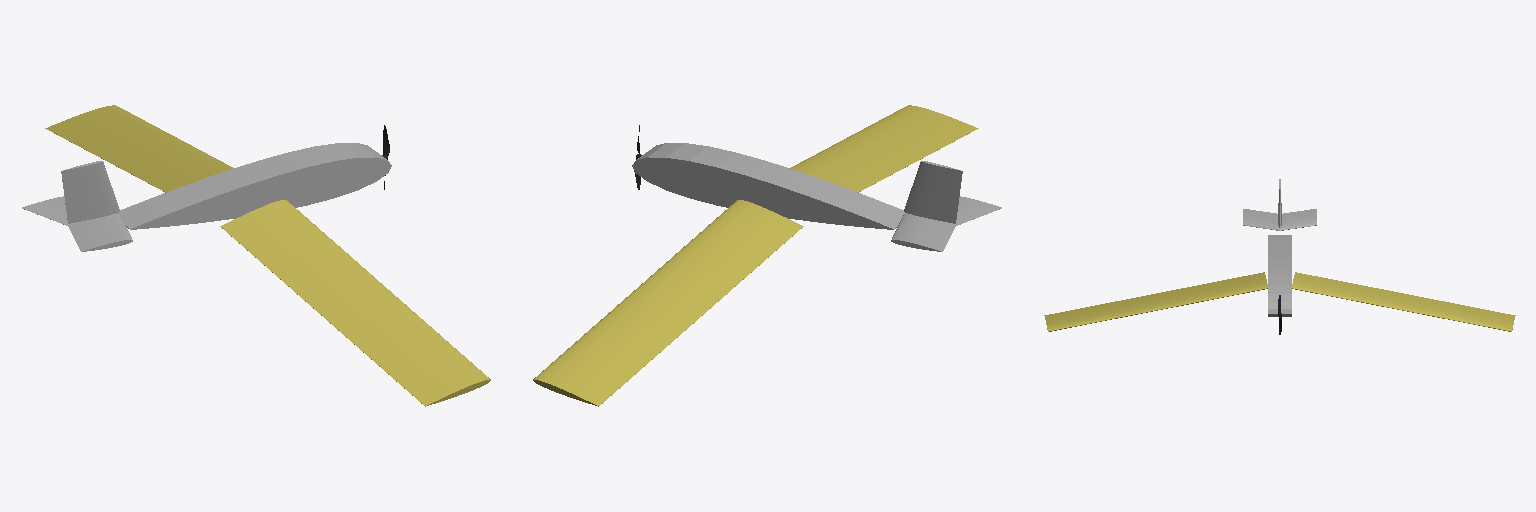
The robot description file, URDF, robot "drone_ea":
<robot name="drone_ea">
 <material name="grey">
  <color rgba="0.7 0.7 0.7 1" />
 </material>
 <material name="red">
  <color rgba="0.796078431372549 0.7490196078431373 0.37254901960784315 1" />
 </material>
 <material name="black">
  <color rgba="0.2 0.2 0.2 1" />
 </material>
 <link name="root_link">
  <inertial>
   <origin rpy="0 0 0" xyz="0 0 0" />
   <mass value="0" />
   <inertia ixx="0" ixy="0" ixz="0" iyy="0" iyz="0" izz="0" />
  </inertial>
 </link>
 <joint name="fixed_joint_base_fuselage" type="fixed">
  <parent link="root_link" />
  <child link="fuselage" />
  <origin rpy="3.141592653589793 0 0" xyz="0 0 0" />
 </joint>
 <link name="fuselage">
  <inertial>
   <origin rpy="0 0 0" xyz="-0.344 0 0" />
   <mass value="0.55" />
   <inertia ixx="0.00029015955" ixy="0" ixz="0" iyy="0.0074080147" iyz="0" izz="0.0074511885" />
  </inertial>
  <visual>
   <origin rpy="0 0 0" xyz="0 0 0" />
   <geometry>
    <mesh filename="package://ros_muav/meshes/fuselage0014_tail0009.stl" scale="0.001 0.001 0.001" />
   </geometry>
   <material name="grey" />
  </visual>
 </link>
 <joint name="fixed_joint_aero_frame_fuselage" type="fixed">
  <parent link="fuselage" />
  <child link="aero_frame_fuselage" />
  <origin rpy="0 3.141592653589793 0" xyz="-0.344 0 0" />
 </joint>
 <link name="aero_frame_fuselage" />
 <joint name="fixed_joint_right_wing" type="fixed">
  <parent link="fuselage" />
  <child link="fuselage_right_0" />
  <origin rpy="-0.17453292519943295 -0.10471975511965977 3.07177948351002" xyz="-0.35 0.05 0.03" />
 </joint>
 <link name="fuselage_right_0">
  <inertial>
   <mass value="0.023" />
   <origin rpy="0 0 0" xyz="0 0 0" />
   <inertia ixx="2.7259259259259264e-06" ixy="0" ixz="0" iyy="2.7259259259259264e-06" iyz="0" izz="2.7259259259259264e-06" />
  </inertial>
 </link>
 <joint name="joint_0_sweep_right_wing" type="revolute">
  <parent link="fuselage_right_0" />
  <child link="fuselage_right_1" />
  <origin rpy="0 0 0" xyz="0 0 0" />
  <axis xyz="0 0 1" />
  <limit effort="0.46" lower="-0.5235987755982988" upper="0.5235987755982988" velocity="3.4033920413889422" />
  <dynamics damping="1" friction="0" />
 </joint>
 <link name="fuselage_right_1">
  <inertial>
   <mass value="0.023" />
   <origin rpy="0 0 0" xyz="0 0 0" />
   <inertia ixx="2.7259259259259264e-06" ixy="0" ixz="0" iyy="2.7259259259259264e-06" iyz="0" izz="2.7259259259259264e-06" />
  </inertial>
 </link>
 <joint name="joint_1_twist_right_wing" type="revolute">
  <parent link="fuselage_right_1" />
  <child link="fuselage_right_2" />
  <origin rpy="0 0 0" xyz="0 0 0" />
  <axis xyz="0 1 0" />
  <limit effort="0.3" lower="-0.5235987755982988" upper="0.5235987755982988" velocity="6.754424205218055" />
  <dynamics damping="1" friction="0" />
 </joint>
 <link name="fuselage_right_2">
  <inertial>
   <mass value="0" />
   <origin rpy="0 0 0" xyz="0 0 0" />
   <inertia ixx="0" ixy="0" ixz="0" iyy="0" iyz="0" izz="0" />
  </inertial>
 </link>
 <joint name="joint_2_fixed_right_wing" type="fixed">
  <parent link="fuselage_right_2" />
  <child link="right_wing" />
  <origin rpy="0 0 0" xyz="0 0 0" />
  <axis xyz="0 0 0" />
 </joint>
 <link name="right_wing">
  <inertial>
   <origin rpy="0 0 0" xyz="0.034436664 -0.45 0" />
   <mass value="0.06666562745484482" />
   <inertia ixx="0.004501152907351681" ixy="0" ixz="0" iyy="0.00014765917768521603" iyz="0" izz="0.004646365981592641" />
  </inertial>
  <visual>
   <origin rpy="0 0 0" xyz="0 0 0" />
   <geometry>
    <mesh filename="package://ros_muav/meshes/wing0009.stl" scale="0.2 0.9 0.2" />
   </geometry>
   <material name="red" />
  </visual>
 </link>
 <joint name="fixed_joint_aero_frame_right_wing" type="fixed">
  <parent link="right_wing" />
  <child link="aero_frame_right_wing" />
  <origin rpy="3.141592653589793 0 0" xyz="0.034436664 -0.45 0" />
 </joint>
 <link name="aero_frame_right_wing" />
 <joint name="fixed_joint_left_wing" type="fixed">
  <parent link="fuselage" />
  <child link="fuselage_left_0" />
  <origin rpy="0.17453292519943295 3.246312408709453 0.06981317007977318" xyz="-0.35 -0.05 0.03" />
 </joint>
 <link name="fuselage_left_0">
  <inertial>
   <mass value="0.023" />
   <origin rpy="0 0 0" xyz="0 0 0" />
   <inertia ixx="2.7259259259259264e-06" ixy="0" ixz="0" iyy="2.7259259259259264e-06" iyz="0" izz="2.7259259259259264e-06" />
  </inertial>
 </link>
 <joint name="joint_0_sweep_left_wing" type="revolute">
  <parent link="fuselage_left_0" />
  <child link="fuselage_left_1" />
  <origin rpy="0 0 0" xyz="0 0 0" />
  <axis xyz="0 0 1" />
  <limit effort="0.46" lower="-0.5235987755982988" upper="0.5235987755982988" velocity="3.4033920413889422" />
  <dynamics damping="1" friction="0" />
 </joint>
 <link name="fuselage_left_1">
  <inertial>
   <mass value="0.023" />
   <origin rpy="0 0 0" xyz="0 0 0" />
   <inertia ixx="2.7259259259259264e-06" ixy="0" ixz="0" iyy="2.7259259259259264e-06" iyz="0" izz="2.7259259259259264e-06" />
  </inertial>
 </link>
 <joint name="joint_1_twist_left_wing" type="revolute">
  <parent link="fuselage_left_1" />
  <child link="fuselage_left_2" />
  <origin rpy="0 0 0" xyz="0 0 0" />
  <axis xyz="0 -1 0" />
  <limit effort="0.3" lower="-0.5235987755982988" upper="0.5235987755982988" velocity="6.754424205218055" />
  <dynamics damping="1" friction="0" />
 </joint>
 <link name="fuselage_left_2">
  <inertial>
   <mass value="0" />
   <origin rpy="0 0 0" xyz="0 0 0" />
   <inertia ixx="0" ixy="0" ixz="0" iyy="0" iyz="0" izz="0" />
  </inertial>
 </link>
 <joint name="joint_2_fixed_left_wing" type="fixed">
  <parent link="fuselage_left_2" />
  <child link="left_wing" />
  <origin rpy="0 0 0" xyz="0 0 0" />
  <axis xyz="0 0 0" />
 </joint>
 <link name="left_wing">
  <inertial>
   <origin rpy="0 0 0" xyz="0.034436664 -0.45 0" />
   <mass value="0.06666562745484482" />
   <inertia ixx="0.004501152907351681" ixy="0" ixz="0" iyy="0.00014765917768521603" iyz="0" izz="0.004646365981592641" />
  </inertial>
  <visual>
   <origin rpy="0 0 0" xyz="0 0 0" />
   <geometry>
    <mesh filename="package://ros_muav/meshes/wing0009.stl" scale="0.2 0.9 0.2" />
   </geometry>
   <material name="red" />
  </visual>
 </link>
 <joint name="fixed_joint_aero_frame_left_wing" type="fixed">
  <parent link="left_wing" />
  <child link="aero_frame_left_wing" />
  <origin rpy="0 0 0" xyz="0.034436664 -0.45 0" />
 </joint>
 <link name="aero_frame_left_wing" />
 <joint name="fixed_joint_collision_0" type="fixed">
  <parent link="fuselage" />
  <child link="collision_frame_0" />
  <origin rpy="0 0 0" xyz="0 0 0" />
 </joint>
 <link name="collision_frame_0" />
 <joint name="fixed_joint_collision_1" type="fixed">
  <parent link="fuselage" />
  <child link="collision_frame_1" />
  <origin rpy="0 0 0" xyz="-0.75 0 0" />
 </joint>
 <link name="collision_frame_1" />
 <joint name="fixed_joint_collision_2" type="fixed">
  <parent link="right_wing" />
  <child link="collision_frame_2" />
  <origin rpy="0 0 0" xyz="0.15000000000000002 -0.9 0" />
 </joint>
 <link name="collision_frame_2" />
 <joint name="fixed_joint_collision_3" type="fixed">
  <parent link="right_wing" />
  <child link="collision_frame_3" />
  <origin rpy="0 0 0" xyz="-0.05 -0.9 0" />
 </joint>
 <link name="collision_frame_3" />
 <joint name="fixed_joint_collision_4" type="fixed">
  <parent link="left_wing" />
  <child link="collision_frame_4" />
  <origin rpy="0 0 0" xyz="0.15000000000000002 -0.9 0" />
 </joint>
 <link name="collision_frame_4" />
 <joint name="fixed_joint_collision_5" type="fixed">
  <parent link="left_wing" />
  <child link="collision_frame_5" />
  <origin rpy="0 0 0" xyz="-0.05 -0.9 0" />
 </joint>
 <link name="collision_frame_5" />
 <joint name="fixed_joint_prop_frame_fuselage_0" type="fixed">
  <parent link="fuselage" />
  <child link="prop_frame_fuselage_0" />
  <origin rpy="3.141592653589793 -1.5707963267948966 0" xyz="0 0 0" />
 </joint>
 <link name="prop_frame_fuselage_0">
  <inertial>
   <mass value="0.031" />
   <origin rpy="0 0 0" xyz="0 0 0" />
   <inertia ixx="3.7625e-05" ixy="0" ixz="0" iyy="3.7625e-05" iyz="0" izz="7.5e-05" />
  </inertial>
  <visual>
   <origin rpy="0 0 0" xyz="0 0 0" />
   <geometry>
    <mesh filename="package://ros_muav/meshes/propeller.stl" scale="0.001 0.001 0.001" />
   </geometry>
   <material name="black" />
  </visual>
 </link>
</robot>

--- What the picture shows (computed from the rendered views, not written in the file) ---
3 views of the same robot in one strip: view 1: azimuth 30°, elevation 25°; view 2: azimuth 150°, elevation 25°; view 3: azimuth 270°, elevation 25° (orthographic).
Robot: drone_ea — 20 links, 19 joints (4 revolute, 15 fixed); root link root_link; default pose: all joints at 0.
Links seen in each view (by area): view 1: right_wing, fuselage, left_wing; view 2: left_wing, fuselage, right_wing; view 3: right_wing, left_wing, fuselage.
Boxes of the visible links, box(x1,y1,x2,y2) form: right_wing: box(220, 200, 490, 406); fuselage: box(22, 143, 391, 251); left_wing: box(45, 105, 233, 192); left_wing: box(533, 200, 803, 406); fuselage: box(632, 143, 1001, 251); right_wing: box(790, 105, 978, 192); right_wing: box(1044, 272, 1267, 331); left_wing: box(1292, 272, 1515, 331); fuselage: box(1243, 179, 1316, 316).
Bounding box of the posed robot: 0.9695 × 1.89 × 0.3813 m (x, y, z).
Meshes: 3 distinct files referenced, 4 mesh visuals loaded (3 binary STL).
